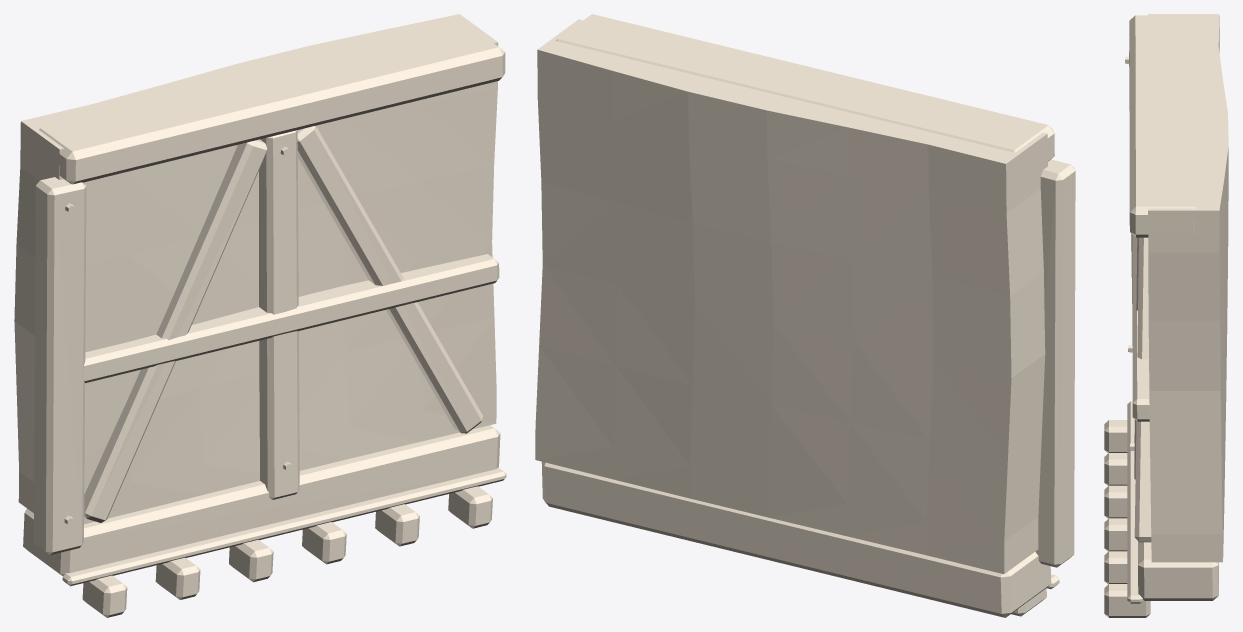
Rendered from SM_VK_Wall_Timber.fbx.
3 renders of one model, left to right at view 1: azimuth 30°, elevation 25°; view 2: azimuth 150°, elevation 25°; view 3: azimuth 270°, elevation 25°, orthographic. The views are drawn at different scales.
Visible parts, largest first — view 1: SM_VK_Wall_Timber.001; view 2: SM_VK_Wall_Timber.001; view 3: SM_VK_Wall_Timber.001.
Part boxes in pixels (left/top/right/bottom): SM_VK_Wall_Timber.001: left=14, top=14, right=506, bottom=617; SM_VK_Wall_Timber.001: left=535, top=14, right=1075, bottom=617; SM_VK_Wall_Timber.001: left=1104, top=14, right=1228, bottom=617.
Size of the model in its own units: 3.13 by 3.01 by 0.8024.
